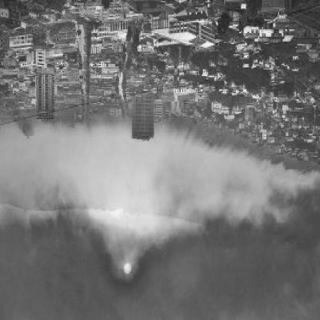Smoke: (3, 118, 319, 255)
other: (117, 253, 137, 285)
